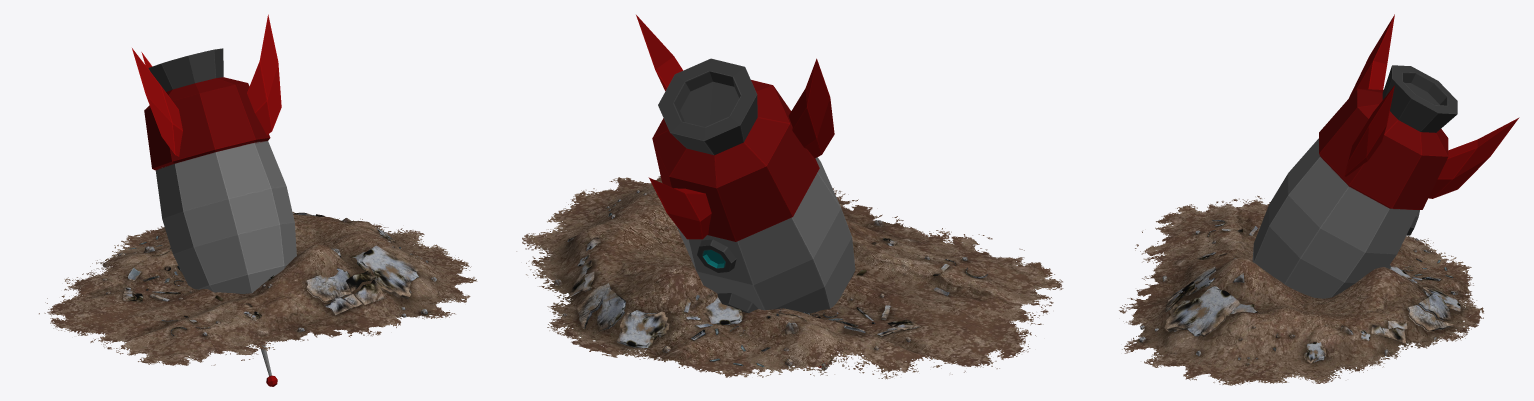
The model's file is crashed_rocket.glb.
3 renders of one model, left to right at view 1: azimuth 30°, elevation 25°; view 2: azimuth 150°, elevation 25°; view 3: azimuth 270°, elevation 25°, orthographic. The views are drawn at different scales.
Visible parts, largest first — view 1: ufo_crash_b.3, RocketShip_mesh; view 2: ufo_crash_b.3, RocketShip_mesh; view 3: ufo_crash_b.3, RocketShip_mesh.
Part boxes in pixels (x1,y1,x2,y2): ufo_crash_b.3: (39,212,477,365); RocketShip_mesh: (132,14,296,386); ufo_crash_b.3: (516,176,1063,379); RocketShip_mesh: (636,15,855,367); ufo_crash_b.3: (1119,195,1483,385); RocketShip_mesh: (1252,14,1519,298).
Size of the model in its own units: 31.07 by 22.35 by 25.71.
2 materials, 2 textured.
